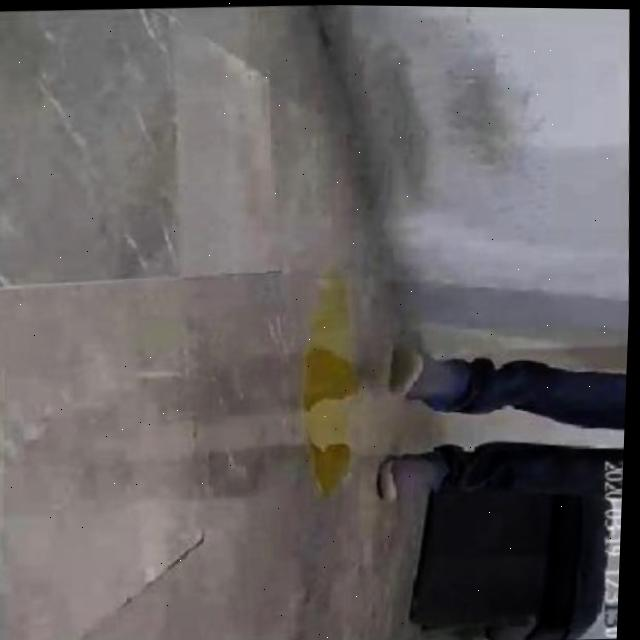spillage: (303, 278, 358, 492)
